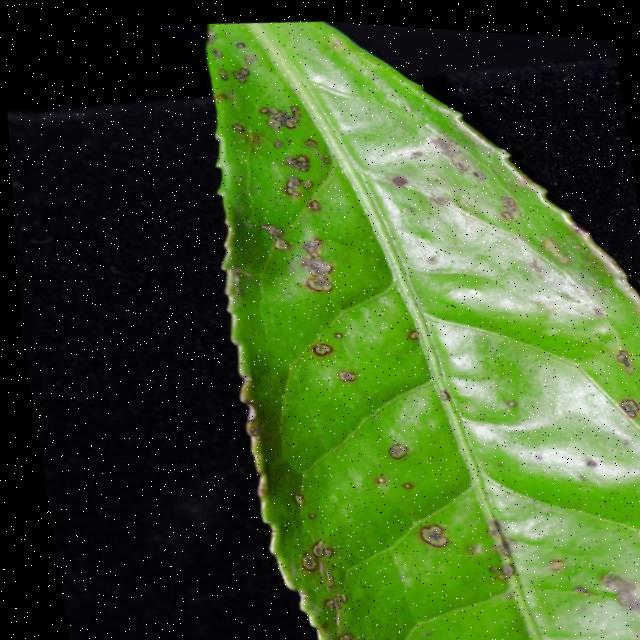Tea red rust: (203, 29, 640, 640)
